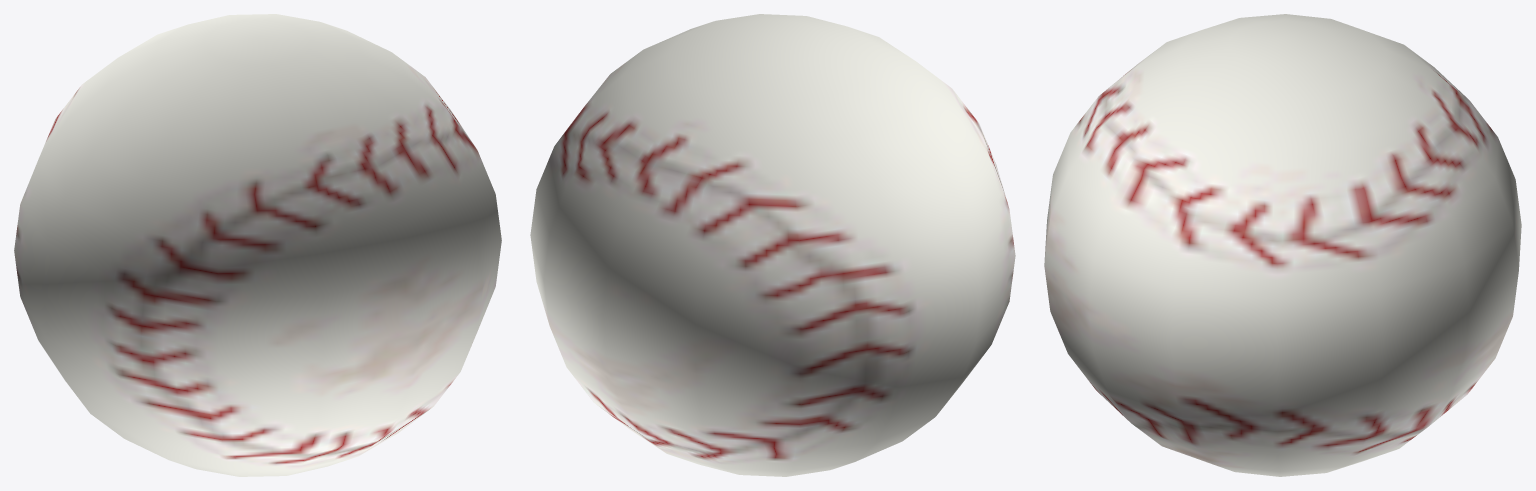
Rendered from BYBB.ico.obj.
3 renders of one model, left to right at view 1: azimuth 30°, elevation 25°; view 2: azimuth 150°, elevation 25°; view 3: azimuth 270°, elevation 25°, orthographic.
Size of the model in its own units: 3.42 by 3.21 by 3.35.
1 material, 1 textured.
